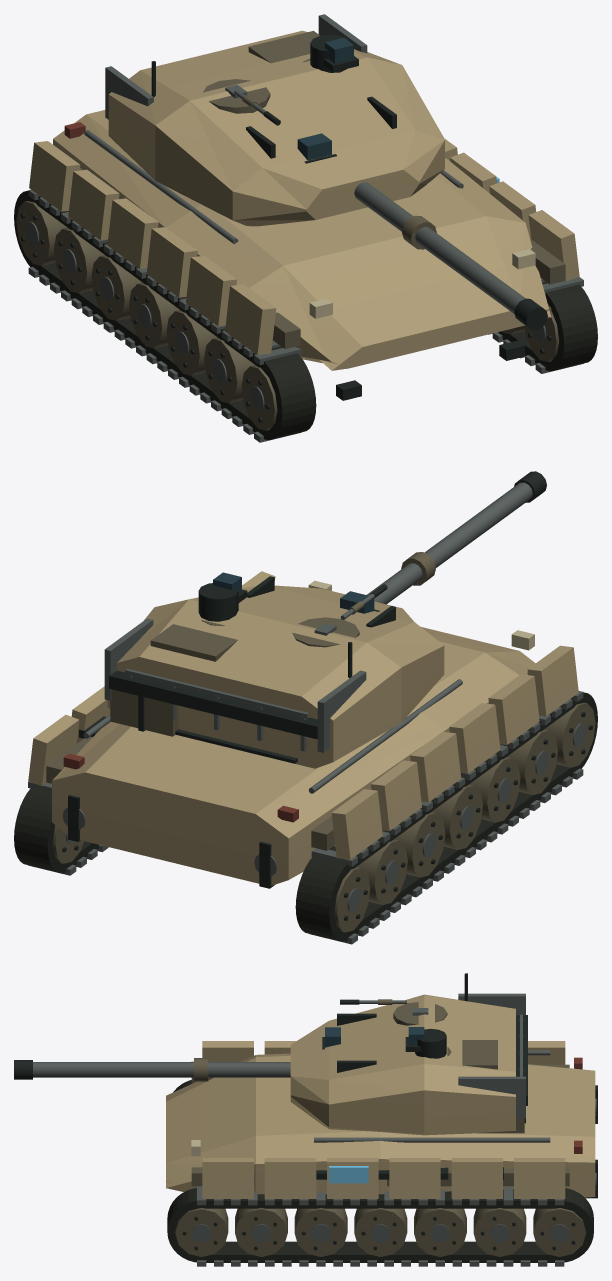
Rendered from tank.glb.
The picture shows the model from 3 angles, top to bottom: view 1: azimuth 30°, elevation 25°; view 2: azimuth 150°, elevation 25°; view 3: azimuth 270°, elevation 25°; orthographic projection. The views are drawn at different scales.
Visible parts, largest first — view 1: armor (×2), equipment (×3), glass; view 2: armor (×2), equipment (×3), glass; view 3: armor (×2), equipment (×3), marking, glass.
Boxes of the visible parts, bbox=[...] form: armor (×2): bbox=[29, 30, 579, 370]; equipment (×3): bbox=[14, 14, 597, 442]; glass: bbox=[297, 37, 353, 160]; armor (×2): bbox=[28, 571, 578, 885]; equipment (×3): bbox=[14, 471, 597, 944]; glass: bbox=[213, 572, 374, 613]; armor (×2): bbox=[166, 994, 595, 1198]; equipment (×3): bbox=[14, 973, 597, 1266]; marking: bbox=[329, 1166, 368, 1183]; glass: bbox=[325, 1027, 424, 1047].
Size of the model in its own units: 3.76 by 2.7 by 7.34.
